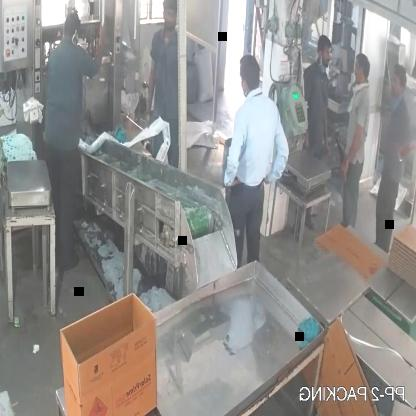no_glove: (216, 112, 245, 211), (76, 8, 112, 77), (336, 119, 368, 192), (266, 110, 292, 189), (142, 38, 159, 135), (392, 117, 411, 166)
